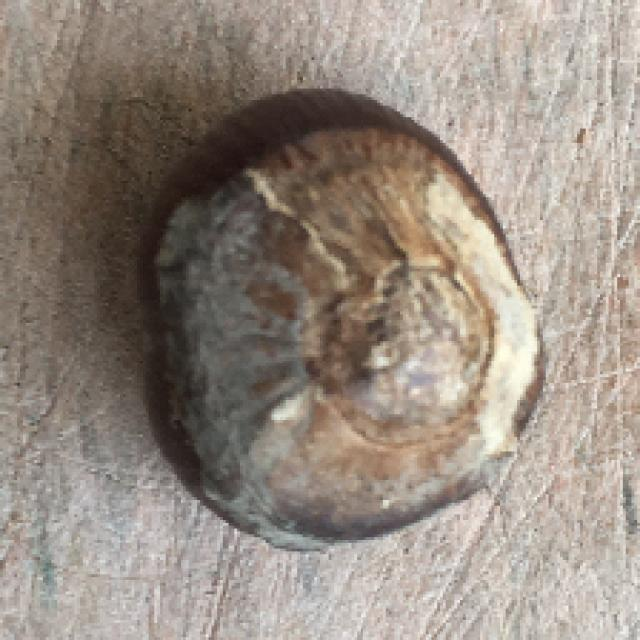damagedHazelnut: (134, 83, 550, 547)
